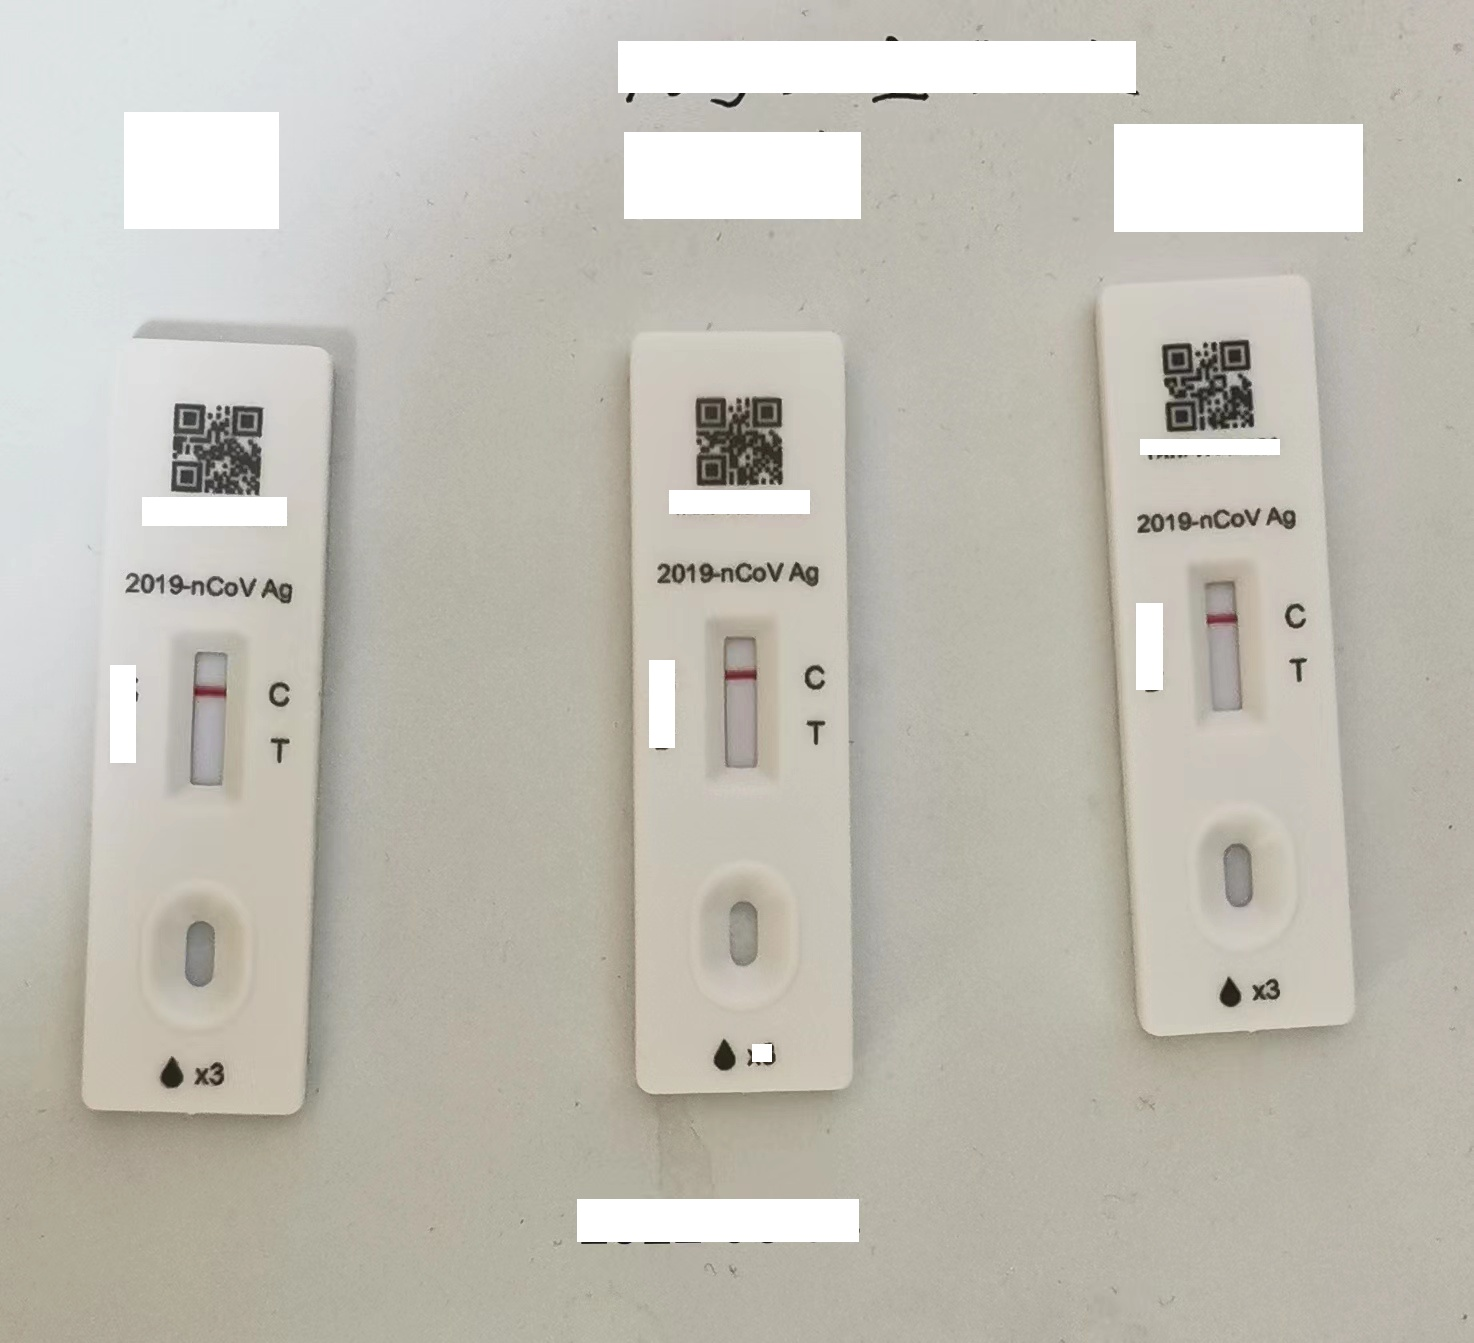negative: (175, 639, 240, 799), (1194, 562, 1256, 722), (710, 620, 770, 781)
